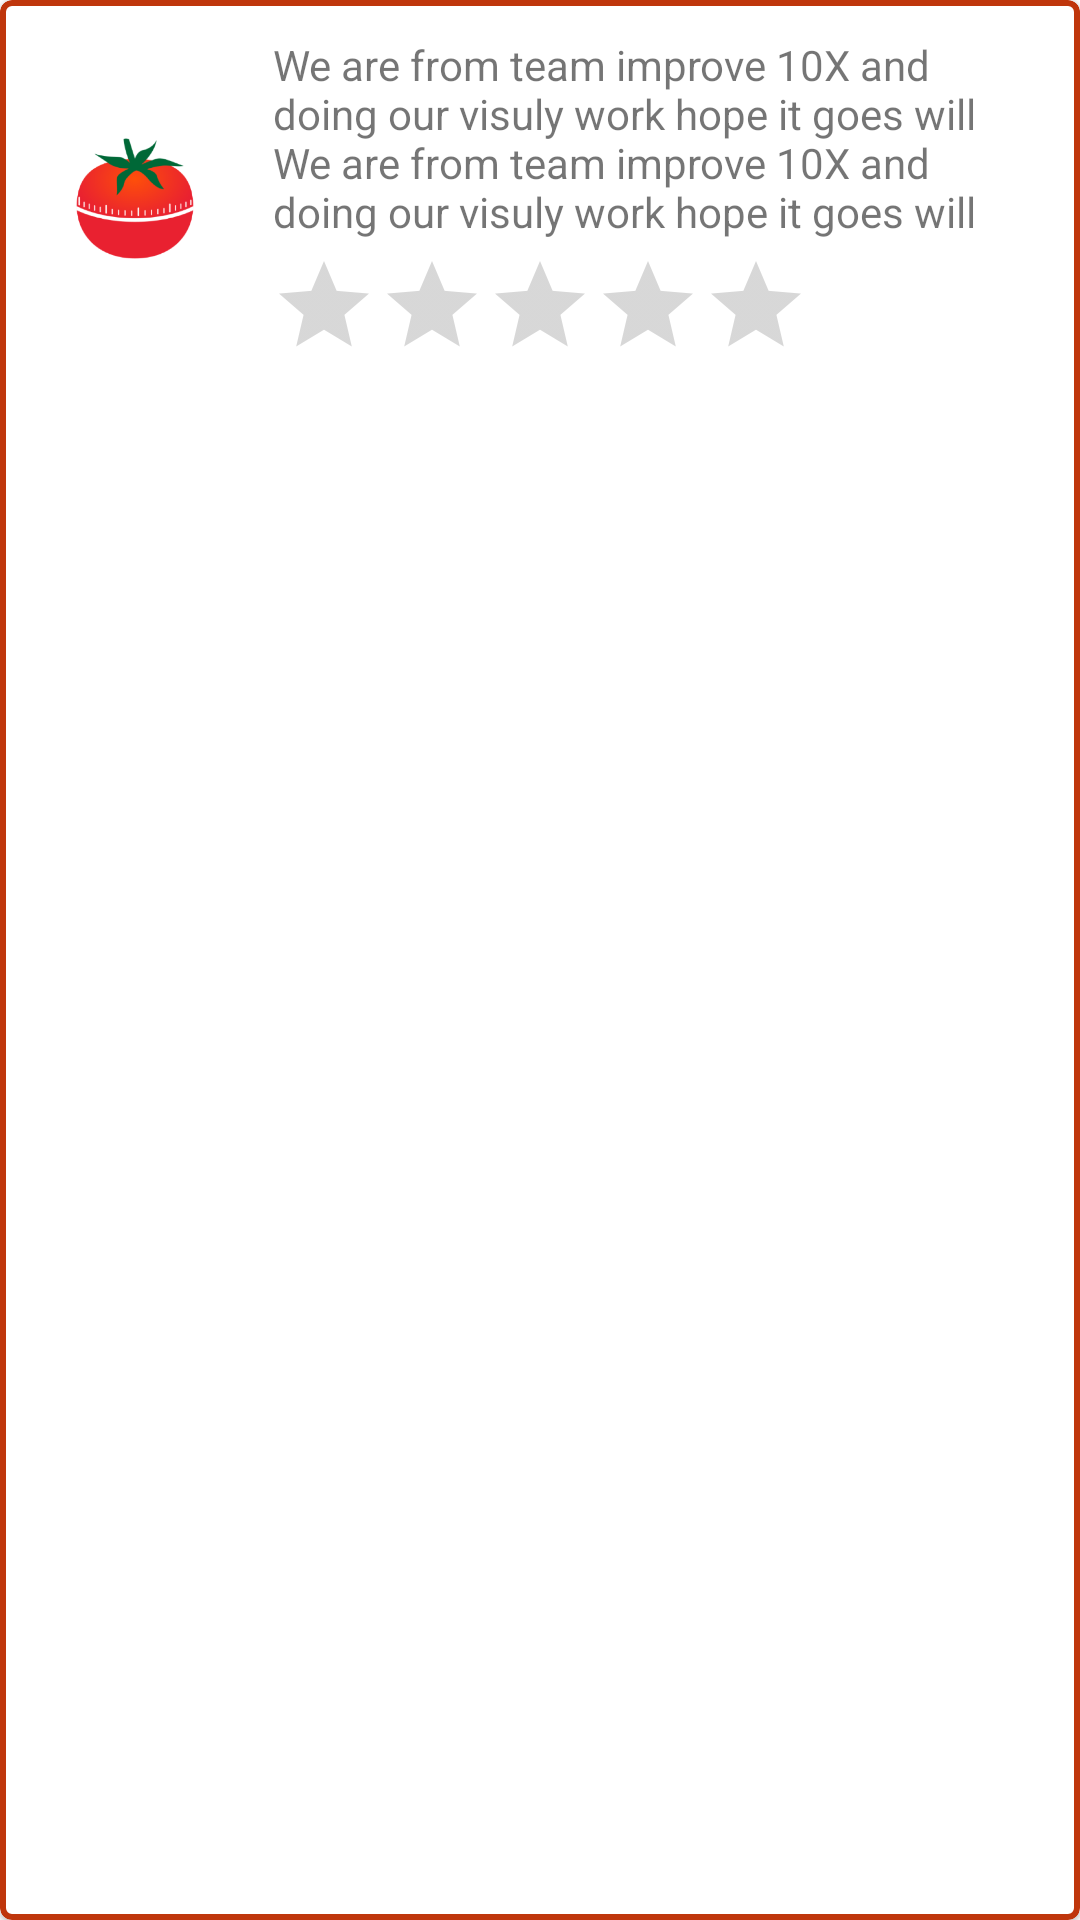

Screen size 1080x1920. Icon name, then its box in pixels as (x1, y1, x2, y2):
pomodoro: (76, 138, 194, 259)
